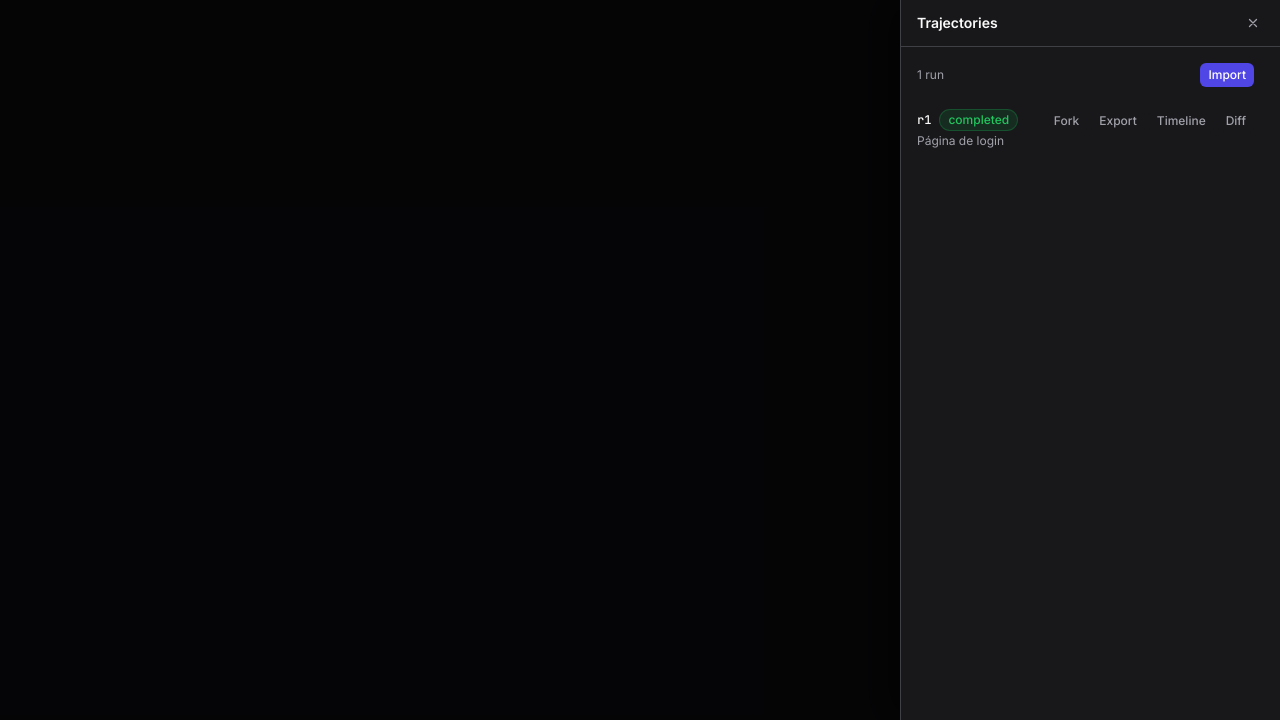
TrajectoriesPanel (Fase C) › fork com descrição opcional → nova run herda a descrição como idea
Click the button "Fork" at (1066, 121), box [1046, 109, 1087, 133]
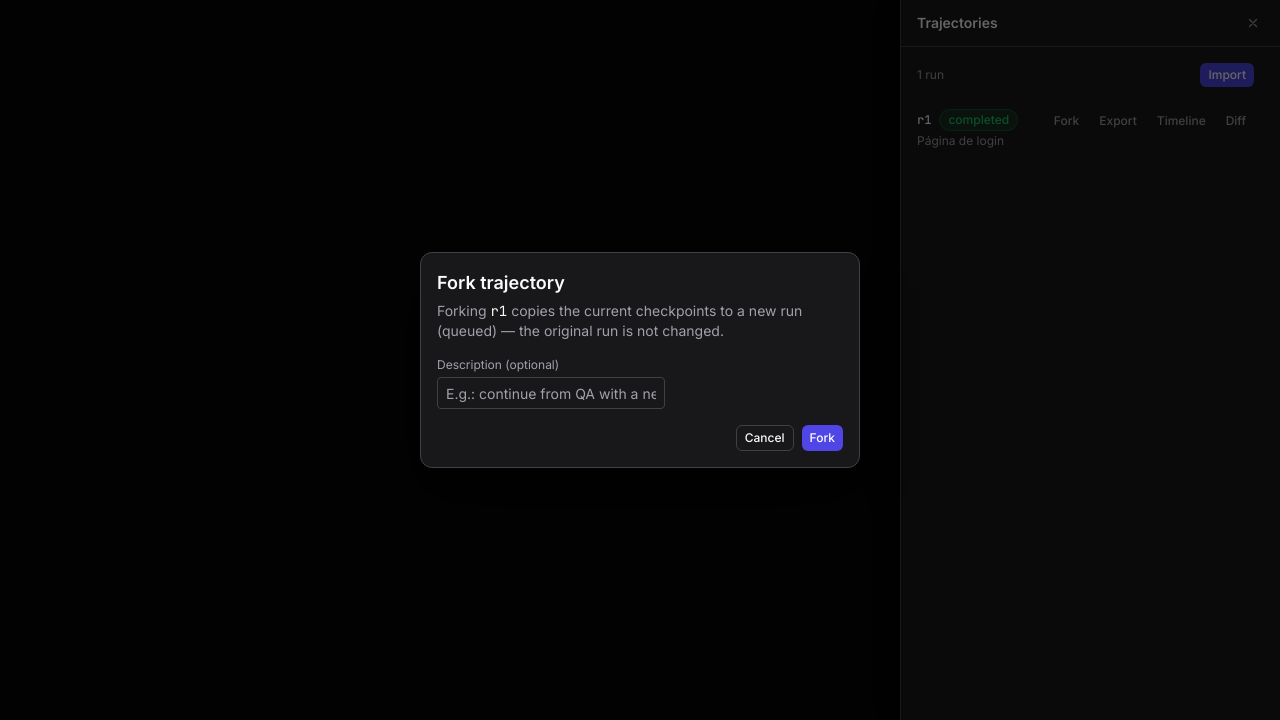
Type "Continuar com outro stack" into the field named "New run description" at (551, 393), box [437, 377, 665, 409]
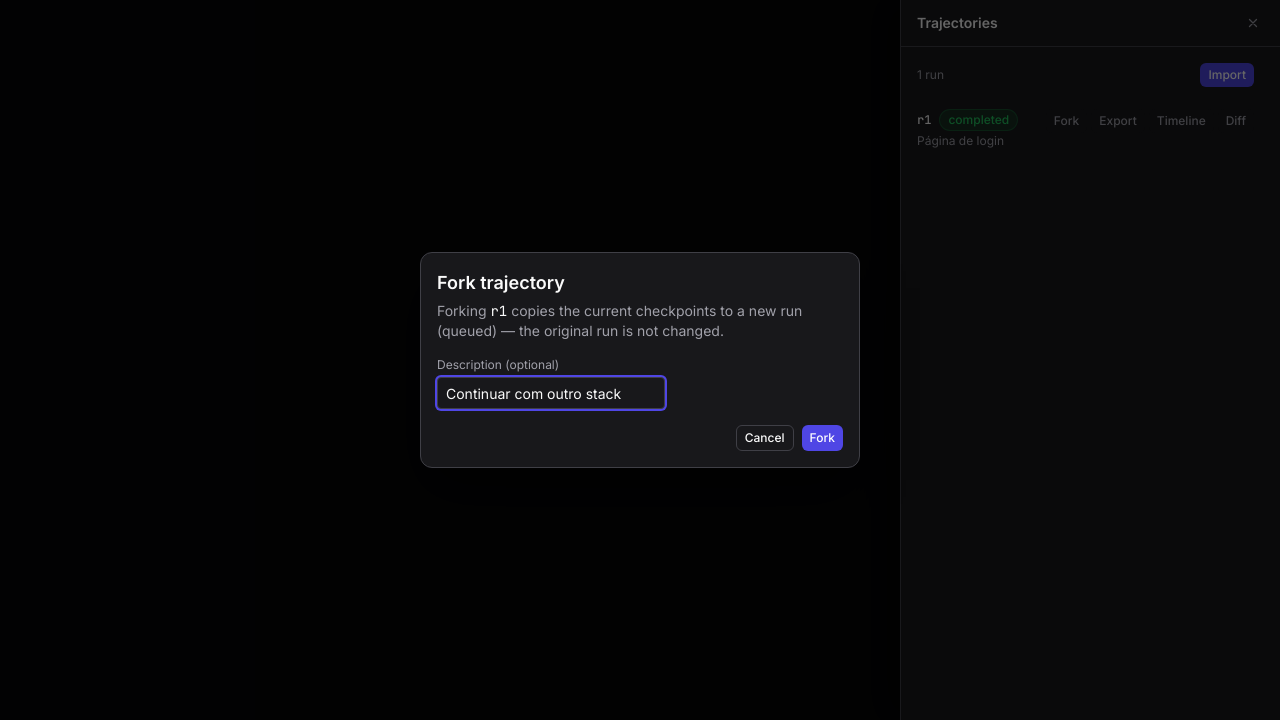
Click the button "Fork" at (822, 438), box [802, 425, 843, 451]
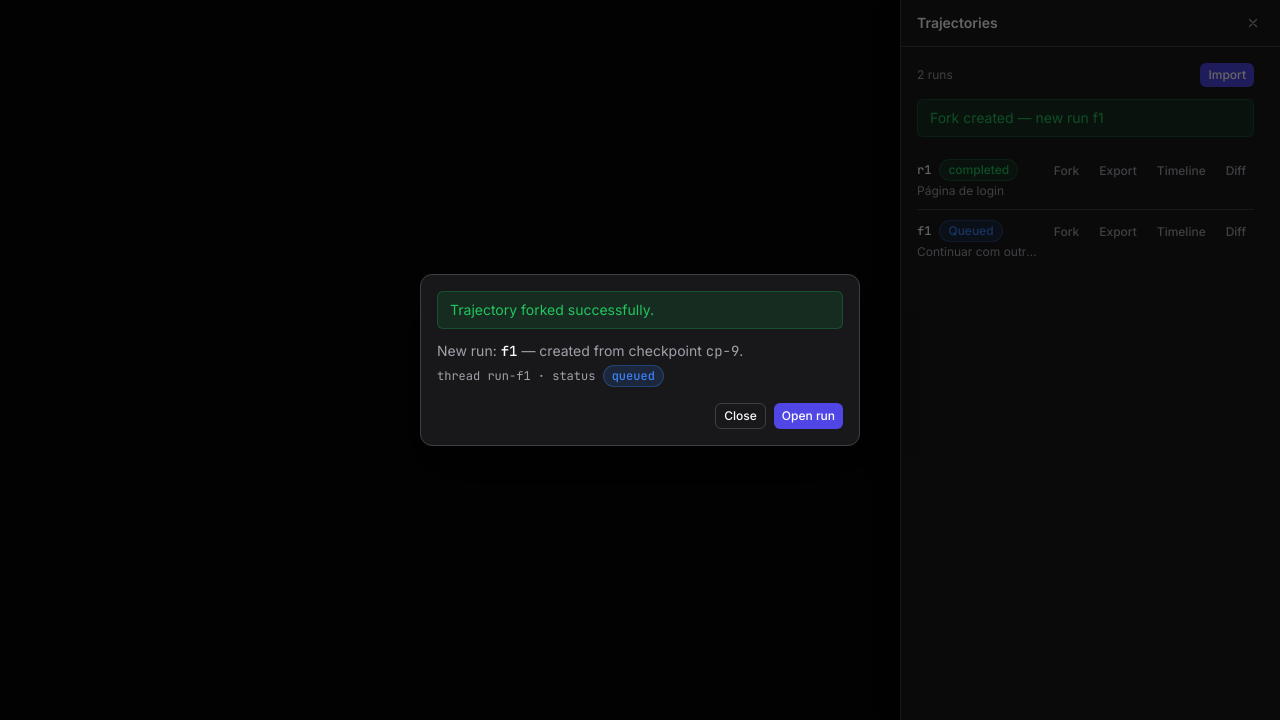
Result: the text "Continuar com outro stack" is shown at [917, 244, 1038, 260]
